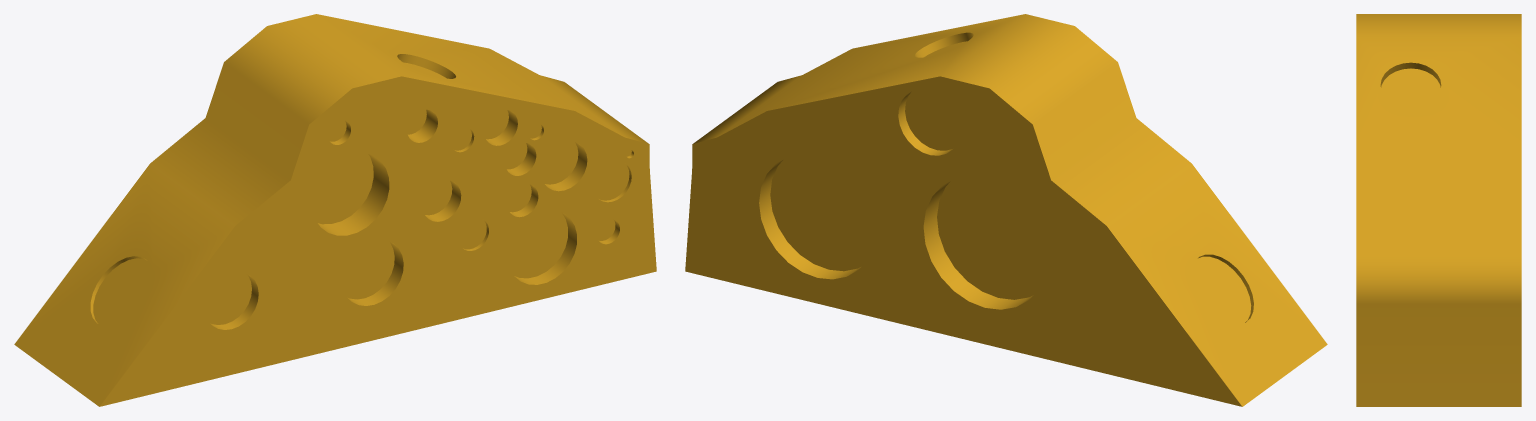
The model's file is original-15.obj.
3 renders of one model, left to right at view 1: azimuth 30°, elevation 25°; view 2: azimuth 150°, elevation 25°; view 3: azimuth 270°, elevation 25°, orthographic. The views are drawn at different scales.
Parts seen in each view (by area): view 1: Swiss_Cheese1/Swiss_Cheese/mesh5/mesh5-geometry#mesh5-geometry; view 2: Swiss_Cheese1/Swiss_Cheese/mesh5/mesh5-geometry#mesh5-geometry; view 3: Swiss_Cheese1/Swiss_Cheese/mesh5/mesh5-geometry#mesh5-geometry.
Part boxes in pixels (x1,y1,x2,y2): Swiss_Cheese1/Swiss_Cheese/mesh5/mesh5-geometry#mesh5-geometry: (14, 14, 656, 406); Swiss_Cheese1/Swiss_Cheese/mesh5/mesh5-geometry#mesh5-geometry: (685, 14, 1327, 406); Swiss_Cheese1/Swiss_Cheese/mesh5/mesh5-geometry#mesh5-geometry: (1356, 14, 1521, 406).
Size of the model in its own units: 0.0832 by 0.0367 by 0.022.
